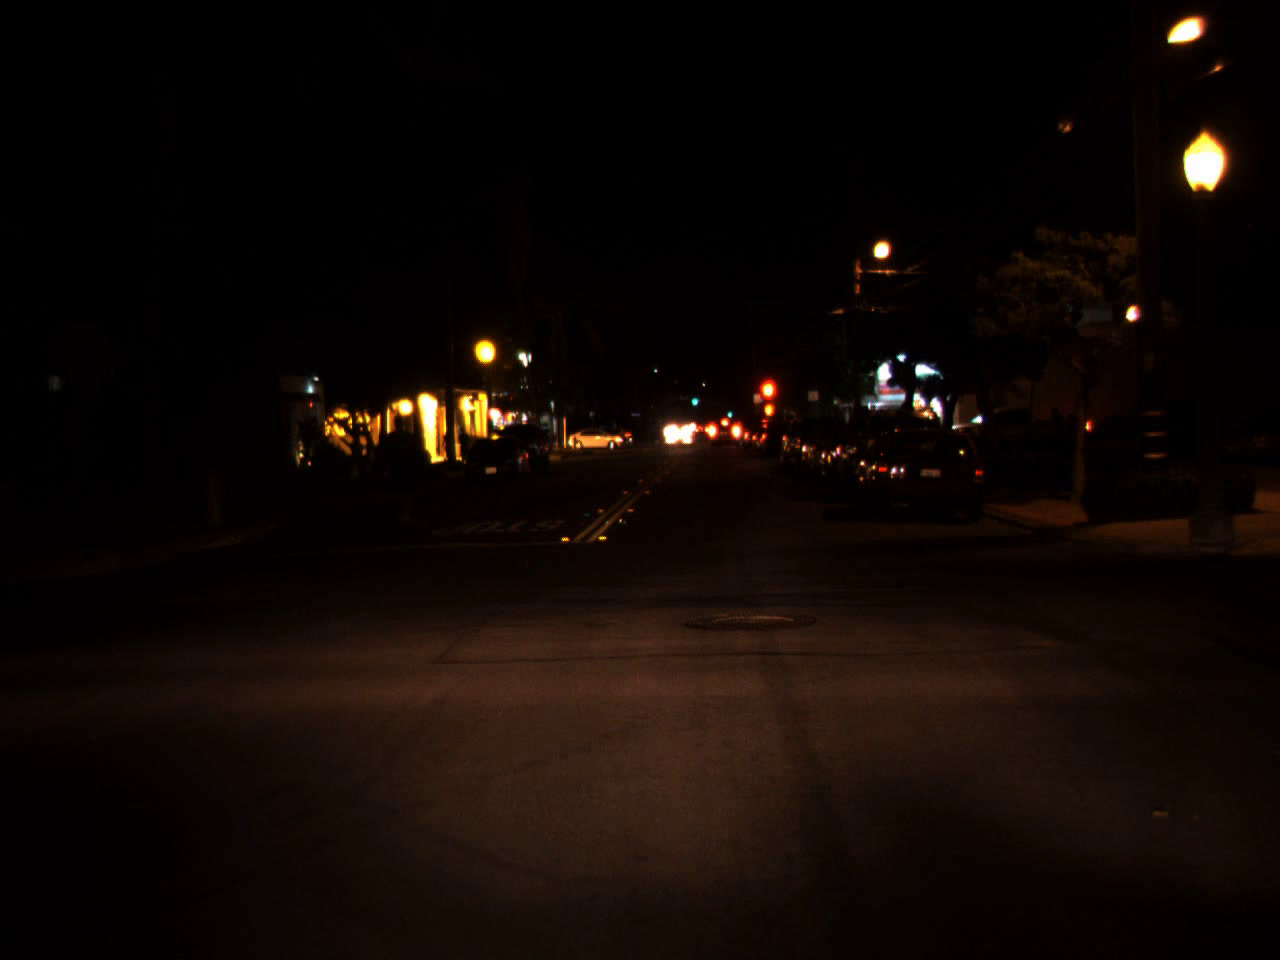go: (689, 390, 698, 405), (726, 406, 733, 418)
stop: (756, 375, 780, 429)
